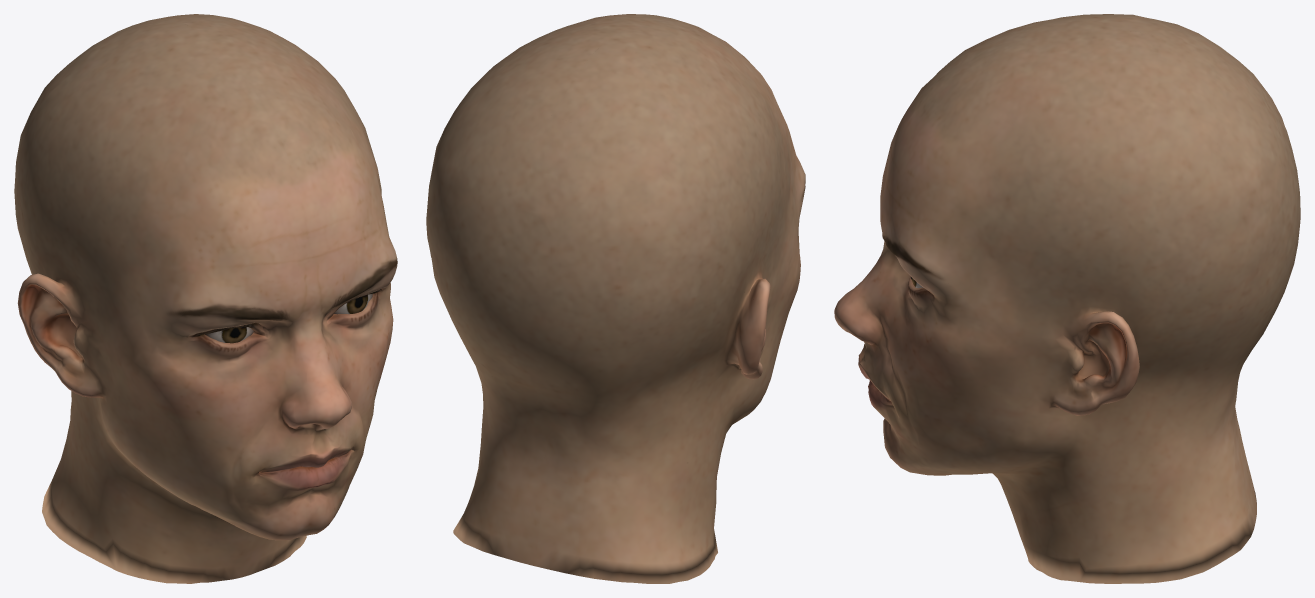
Rendered from kopf-textur.glb.
3 views of the same model, side by side, from view 1: azimuth 30°, elevation 25°; view 2: azimuth 150°, elevation 25°; view 3: azimuth 270°, elevation 25° (orthographic).
Visible parts, largest first — view 1: geometry_0; view 2: geometry_0; view 3: geometry_0.
Boxes of the visible parts, <box> form: geometry_0: <box>14,14,397,583</box>; geometry_0: <box>426,14,805,583</box>; geometry_0: <box>834,14,1300,583</box>.
Bounding box in the file's own units: 0.6538 × 0.9512 × 0.7788.
1 material, 1 textured.
